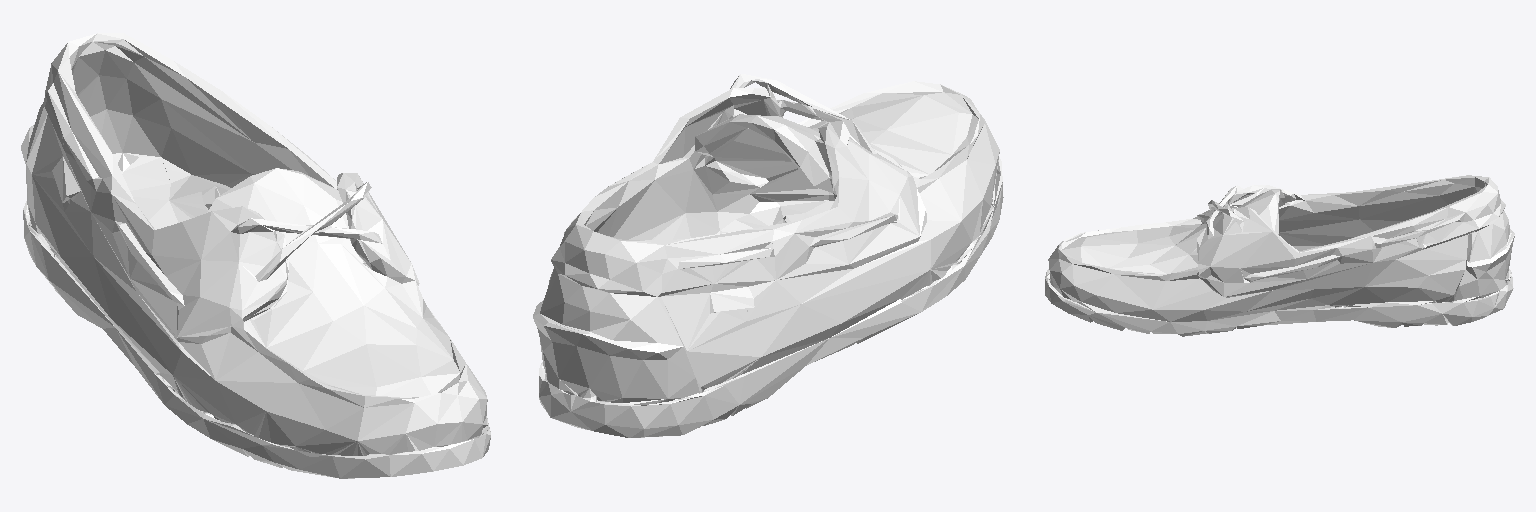
The robot description file, URDF, robot "Schooner":
<robot name="Schooner">
    <link name="base_link">
        <contact>
            <lateral_friction value="1.0" />
        </contact>
        <inertial>
            <origin xyz="0.0 0.0 0.046" />
            <mass value="1.6343796572963356" />
            <inertia ixx="1" ixy="0" ixz="0" iyy="1" iyz="0" izz="1" />
        </inertial>
        <visual>
            <origin xyz="0 0 0" />
            <geometry>
                <mesh filename="model_p4GH0BbLFrf.obj" />
            </geometry>
            <material name="Schooner">
                <color rgba="1 1 1 1" />
            </material>
        </visual>
        <collision>
            <origin xyz="0 0 0" />
            <geometry>
                <mesh filename="model_p4GH0BbLFrf_vhacd.obj" />
            </geometry>
        </collision>
    </link>
</robot>

--- Facts derived from the render (not from the file) ---
The picture shows the robot from 3 angles, left to right: view 1: azimuth 30°, elevation 25°; view 2: azimuth 150°, elevation 25°; view 3: azimuth 270°, elevation 25°; orthographic projection.
Robot: Schooner — 1 links, 0 joints (none); root link base_link; default pose: every joint at zero.
Links seen in each view (by area): view 1: base_link; view 2: base_link; view 3: base_link.
Boxes of the visible links, <box> form: base_link: <box>21,33,490,478</box>; base_link: <box>533,74,1003,437</box>; base_link: <box>1045,175,1514,336</box>.
Size in the robot's own frame: 0.1106 by 0.3088 by 0.0931 metres.
Meshes: 1 distinct files referenced, 1 mesh visuals loaded (1 OBJ).
